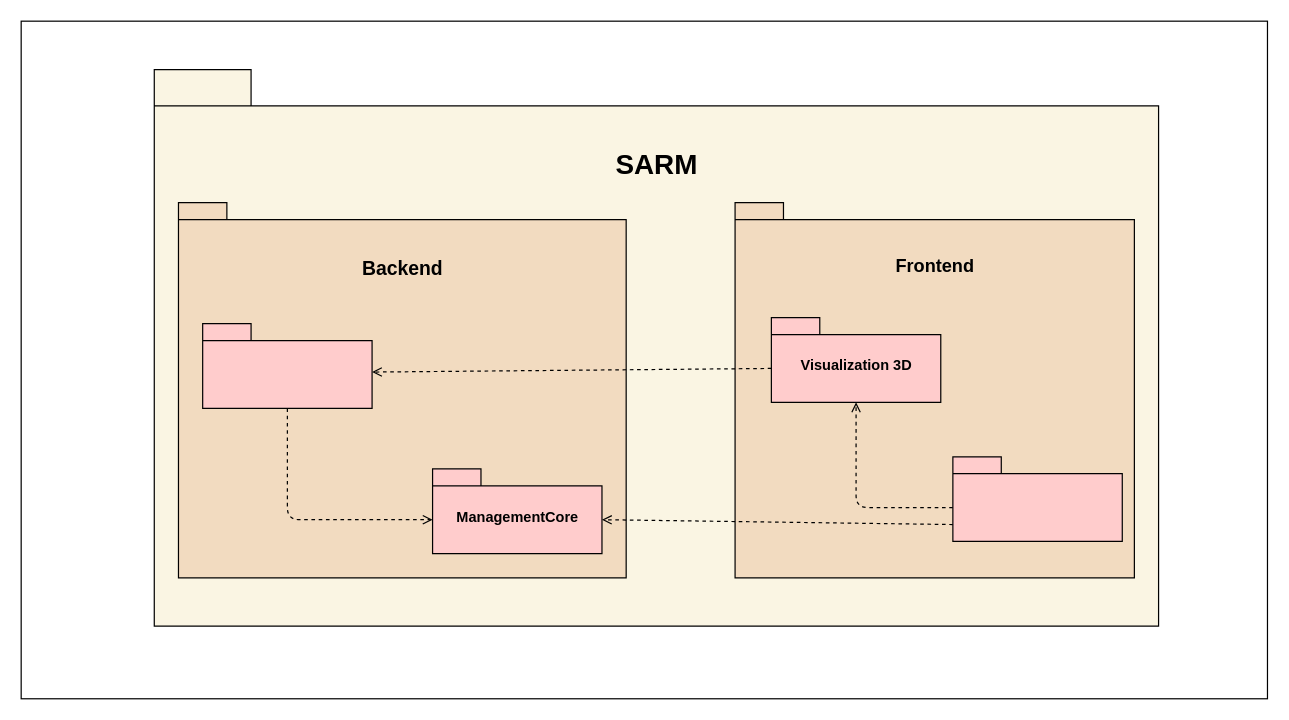
The diagram is 1289 pixels wide and 720 high, and some of its shapes have lost their labels. Here are the shapes that lost their labels. From the top down, the centre of each, then its label:
At (286,365): "Planning".
At (1037,498): "Web SPA".
